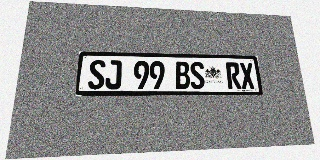9: (134, 61, 149, 89), (150, 61, 165, 89)
B: (175, 61, 190, 89)
J: (105, 60, 122, 89)
R: (226, 62, 242, 89)
S: (88, 60, 106, 89), (190, 62, 205, 89)
X: (239, 62, 255, 89)
